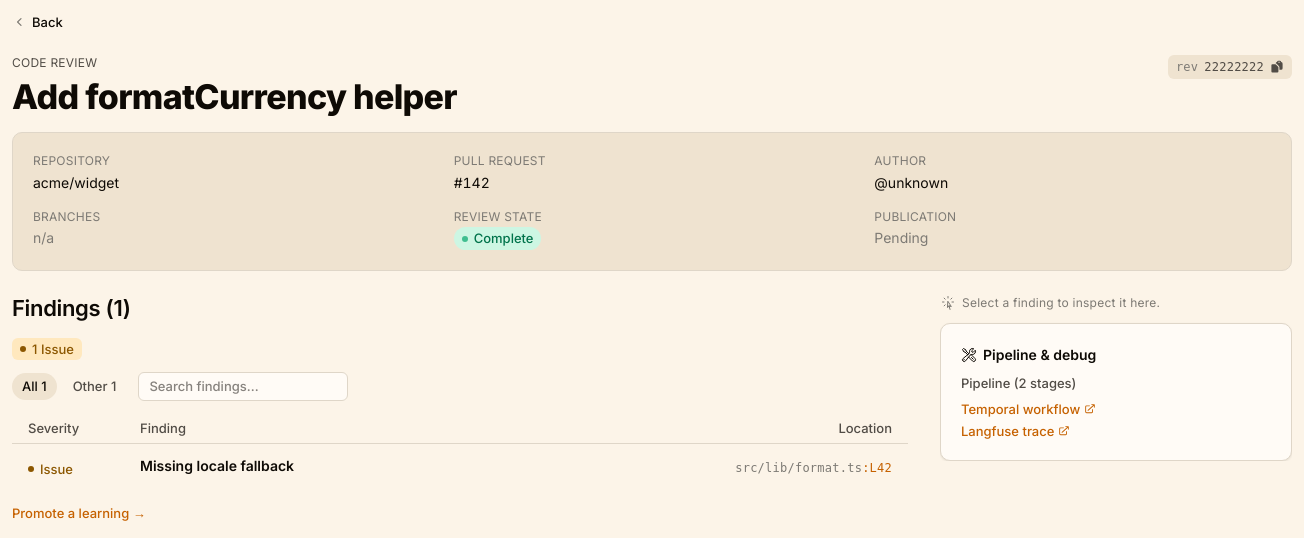
Test case: ReviewDetailPage — wiring › P1 engineer value › renders the workflow stage strip from activities
# Open the disclosure to show the StageStrip.
Click the heading "Pipeline (2 stages)".
click(1019, 382)  # box [961, 374, 1076, 390]
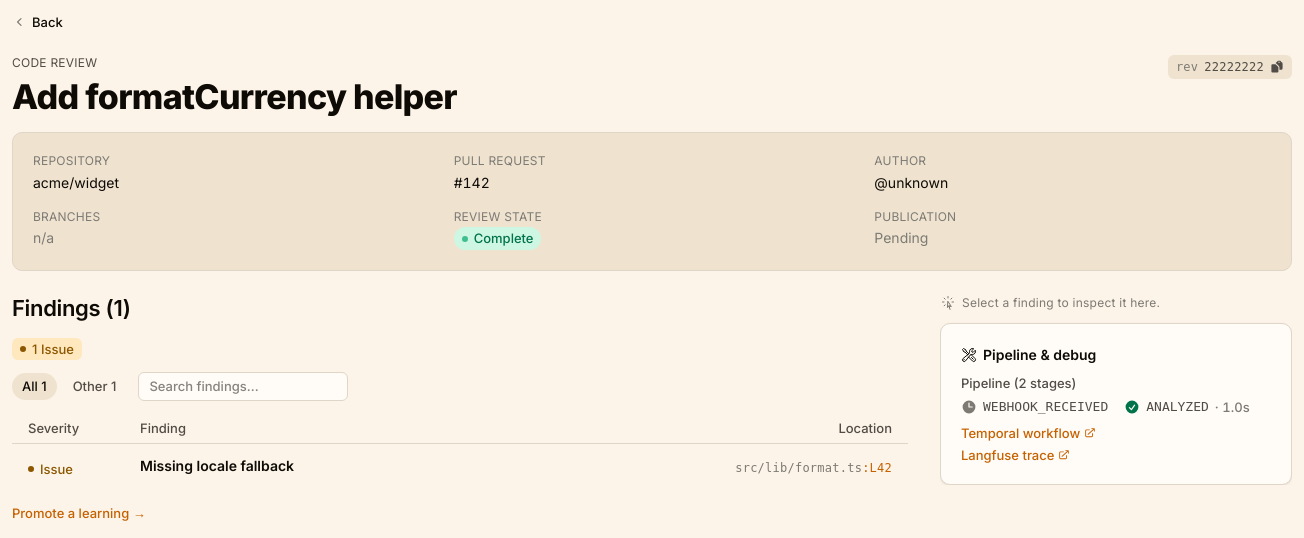
Check: the text "WEBHOOK_RECEIVED" is shown, box [983, 398, 1108, 416]
Check: the text "ANALYZED" is shown, box [1146, 398, 1209, 416]
